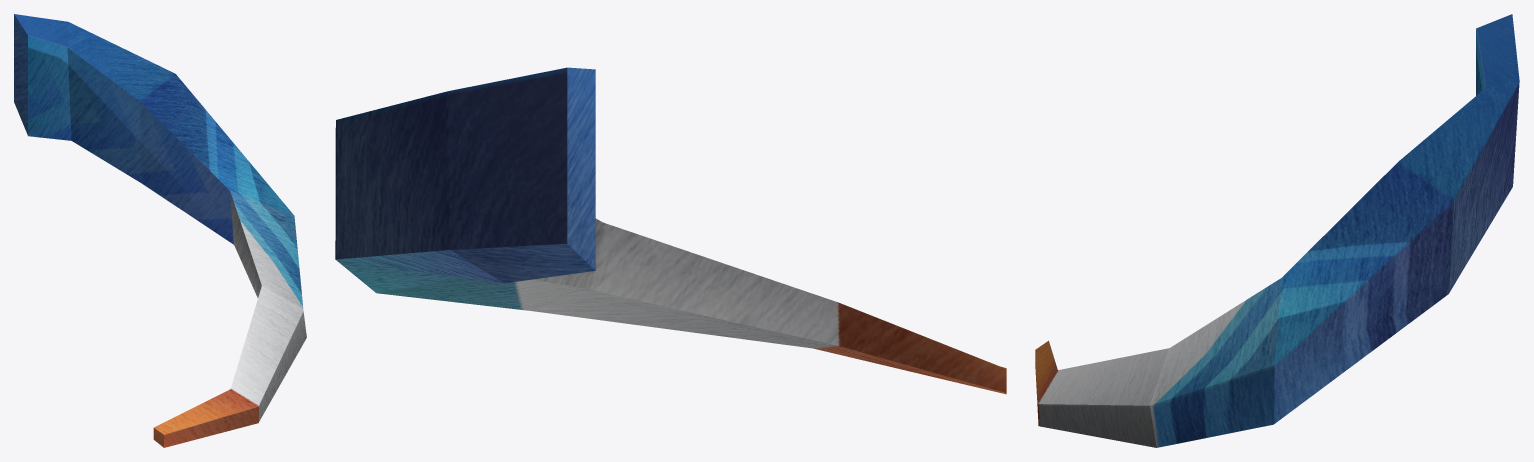
The model's file is dream_1.obj.
The picture shows the model from 3 angles, left to right: view 1: azimuth 30°, elevation 25°; view 2: azimuth 150°, elevation 25°; view 3: azimuth 270°, elevation 25°; orthographic projection. The views are drawn at different scales.
Parts seen in each view (by area): view 1: horn_L; view 2: horn_L; view 3: horn_L.
Part boxes in pixels (x1,y1,x2,y2): horn_L: (14,14,306,447); horn_L: (335,67,1006,394); horn_L: (1035,14,1519,447).
Bounding box in the file's own units: 194 × 236 × 276.
Materials: 1 (1 with a texture image).
